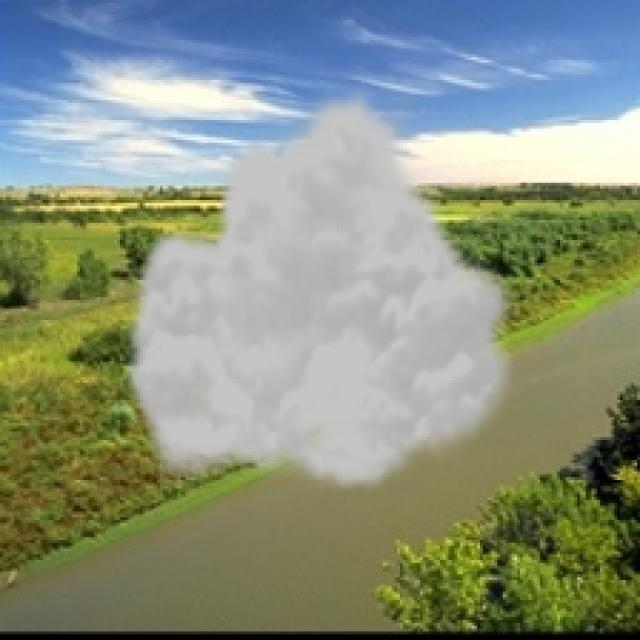smoke: (117, 83, 526, 494)
